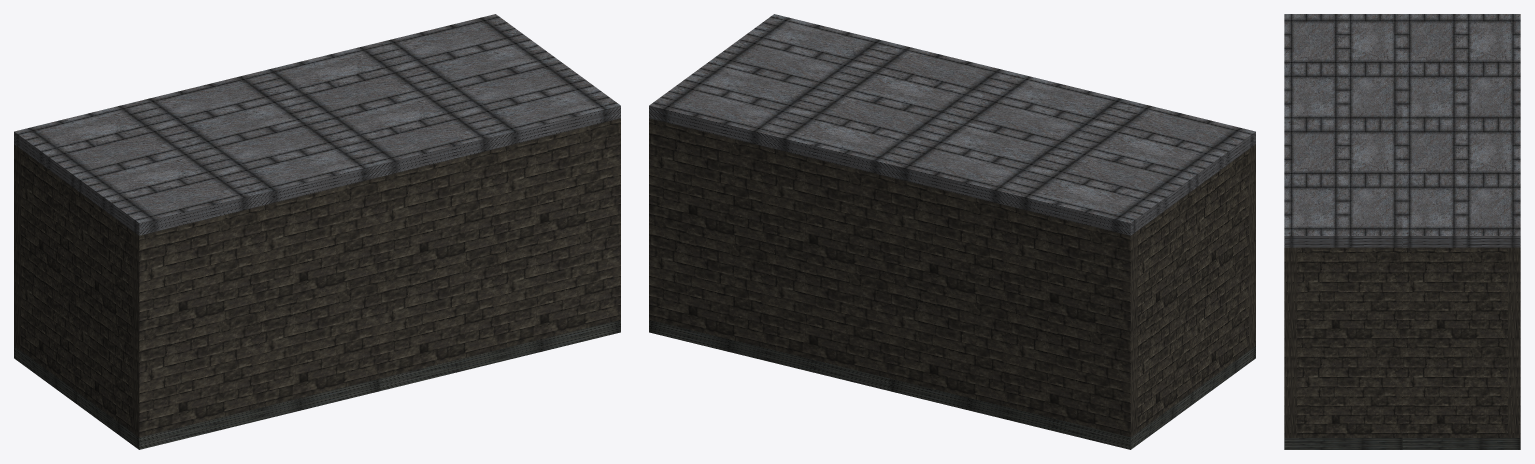
Rendered from straighthall.fbx.
3 views of the same model, side by side, from view 1: azimuth 30°, elevation 25°; view 2: azimuth 150°, elevation 25°; view 3: azimuth 270°, elevation 25° (orthographic). The views are drawn at different scales.
Parts seen in each view (by area): view 1: Wall2, Roof, Door2, Floor, Wall4; view 2: Wall4, Roof, Door2, Floor, Wall2; view 3: Roof, Door1, Floor, Wall2, Wall4.
Part boxes in pixels (x1=…): Wall2: x1=132, y1=118, x2=620, y2=437; Roof: x1=14, y1=14, x2=620, y2=235; Door2: x1=21, y1=149, x2=132, y2=431; Floor: x1=14, y1=320, x2=620, y2=449; Wall4: x1=14, y1=144, x2=20, y2=350; Wall4: x1=649, y1=118, x2=1137, y2=437; Roof: x1=649, y1=14, x2=1255, y2=235; Door2: x1=1137, y1=149, x2=1248, y2=431; Floor: x1=649, y1=320, x2=1255, y2=449; Wall2: x1=1249, y1=144, x2=1255, y2=350; Roof: x1=1284, y1=14, x2=1520, y2=247; Door1: x1=1297, y1=247, x2=1507, y2=437; Floor: x1=1284, y1=438, x2=1520, y2=449; Wall2: x1=1284, y1=247, x2=1297, y2=437; Wall4: x1=1507, y1=247, x2=1520, y2=437.
Size of what is drawn, in the model's own units: 2000 by 900 by 900.
